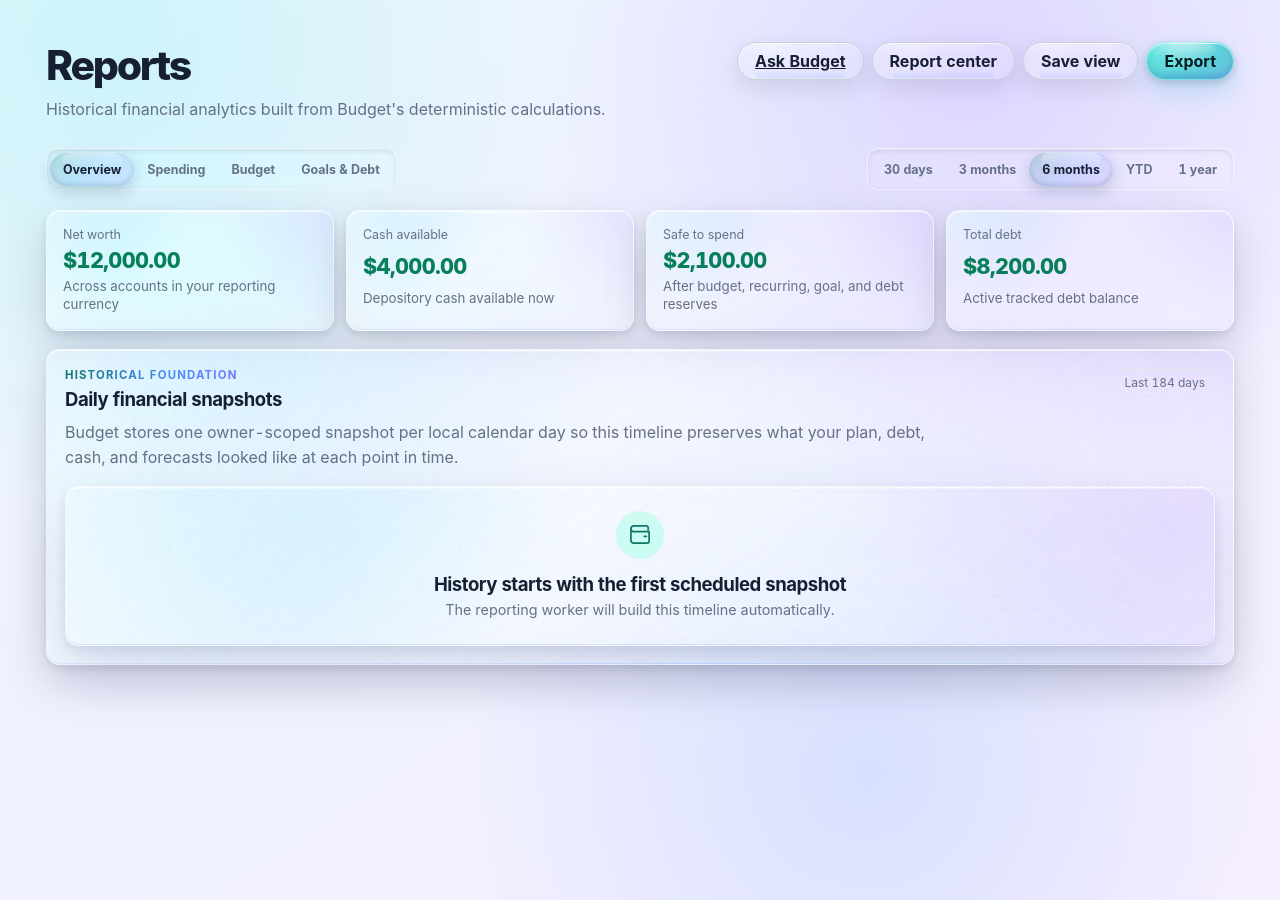
Scenario: ReportsPage › opens the report center and exposes saved views, exports, and Advisor handoff
This screenshot has width=1280, height=900.
Click the button "Report center".
click(943, 61)  # box x1=872 y1=42 x2=1015 y2=80
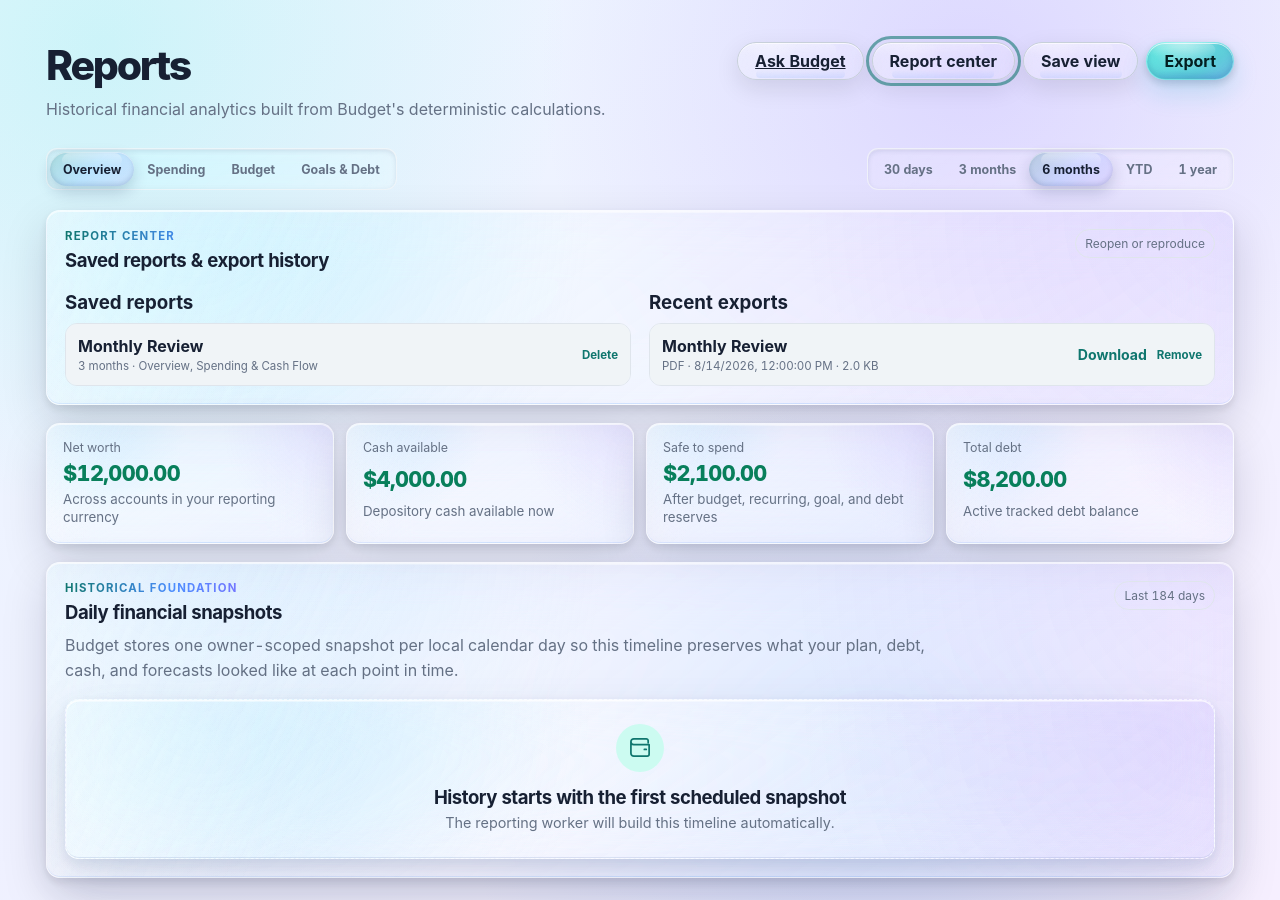
Now the heading "Saved reports & export history" is shown, box x1=65 y1=249 x2=329 y2=271
Now the 1st text "Monthly Review" is shown, box x1=78 y1=336 x2=203 y2=356
Click the button "Export".
click(1190, 61)  # box x1=1146 y1=42 x2=1234 y2=80
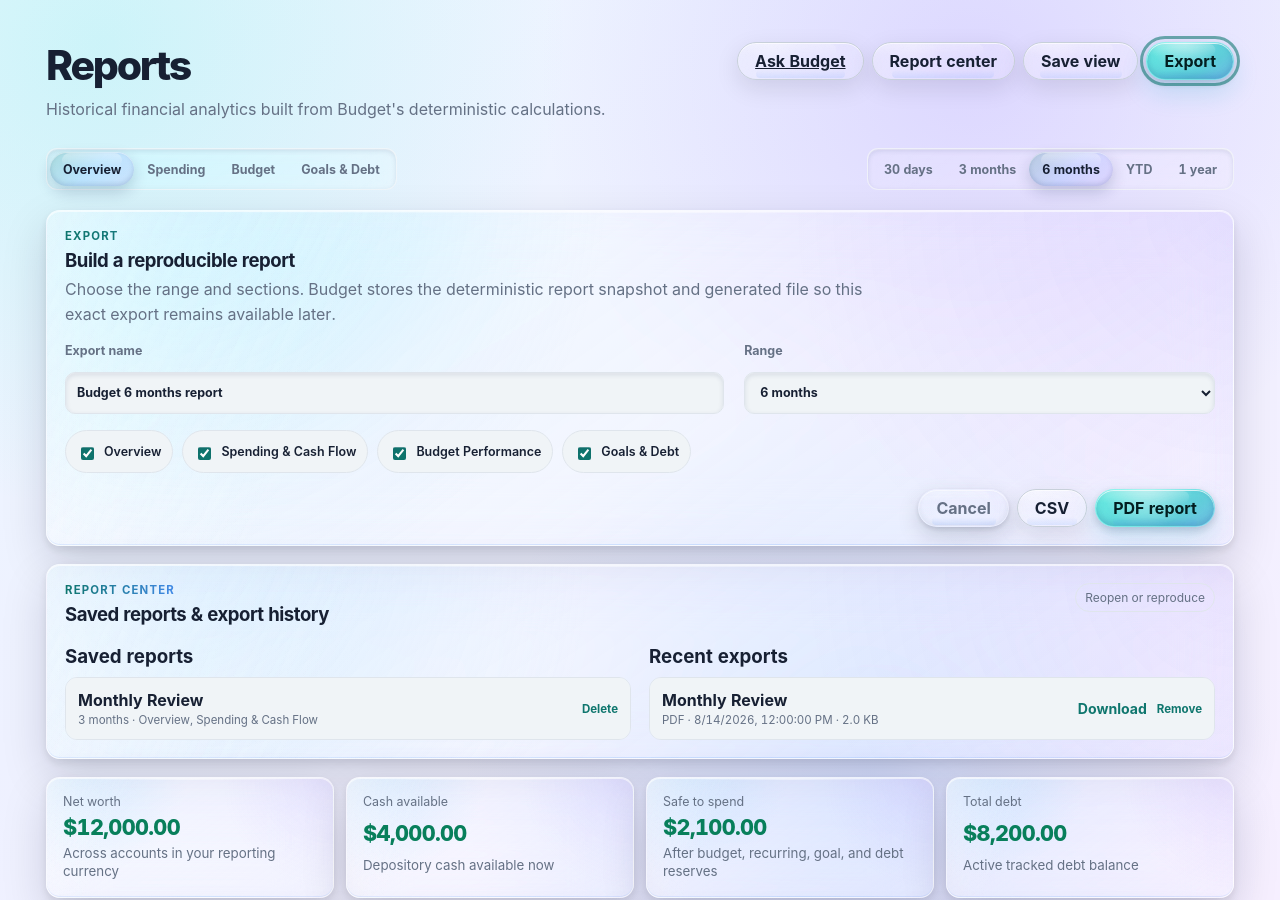
Now the heading "Build a reproducible report" is shown, box x1=65 y1=249 x2=295 y2=271
Now the button "PDF report" is enabled, box x1=1095 y1=489 x2=1215 y2=527
